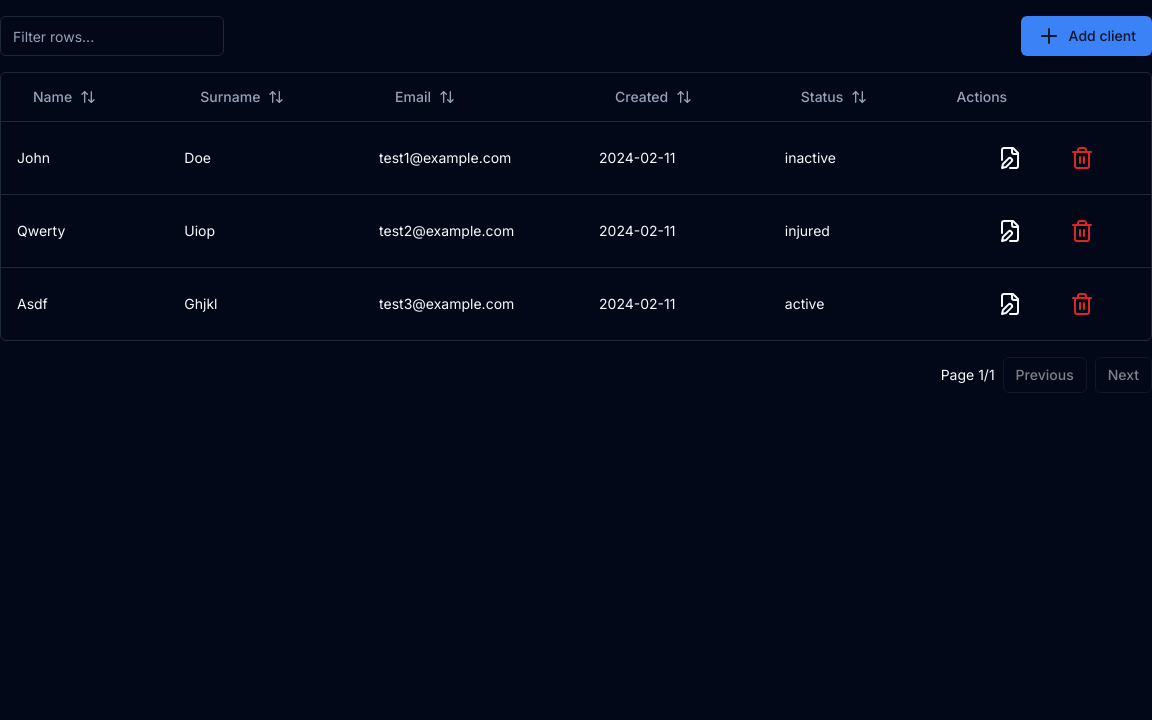
Test case: Clients Table › opens form dialog if add or edit client is clicked, can close dialog
Click the button named "edit client" in the row of "John" at (1010, 158), box [982, 138, 1038, 178]
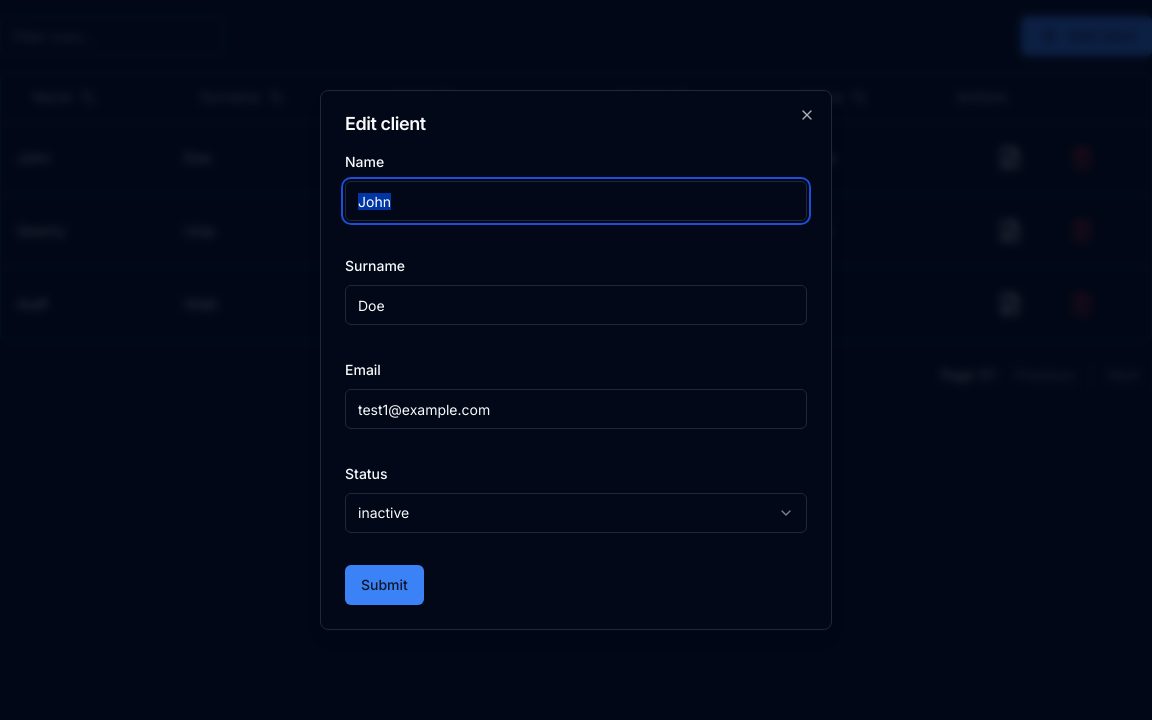
Check: the dialog is shown, box [320, 90, 832, 630]
Click the button named "Close" at (807, 115), box [799, 107, 815, 123]
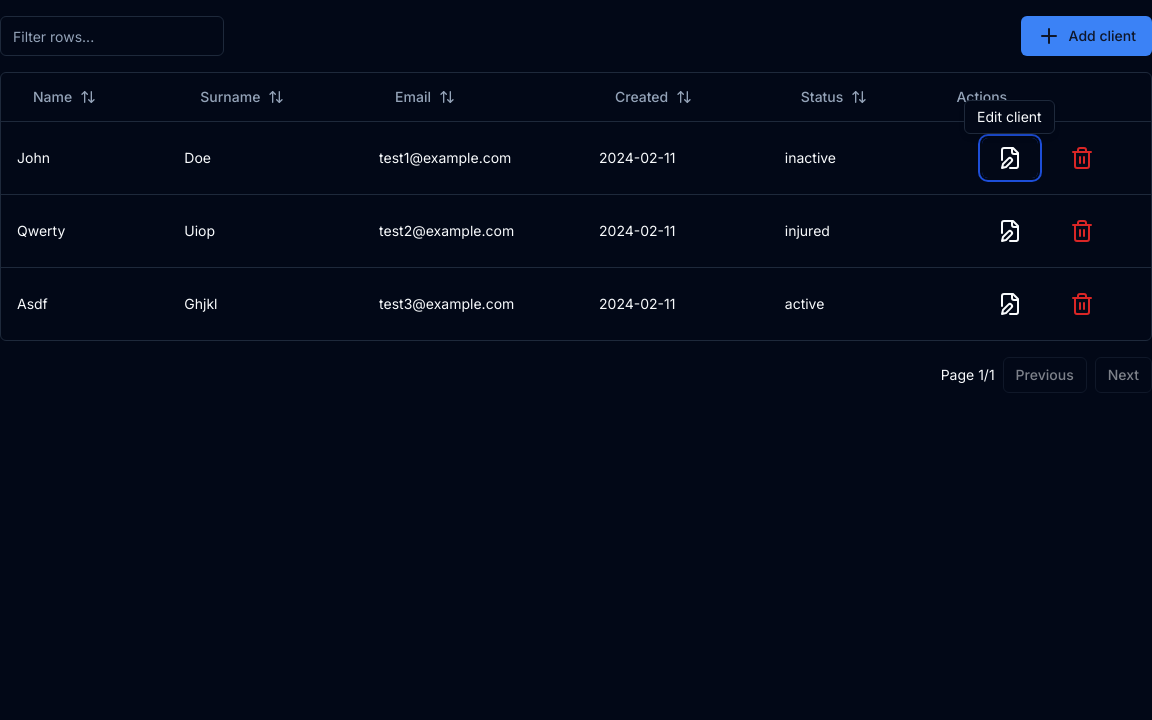
Check: the dialog is gone
Click the button "Add client" at (1086, 36), box [1021, 16, 1151, 56]
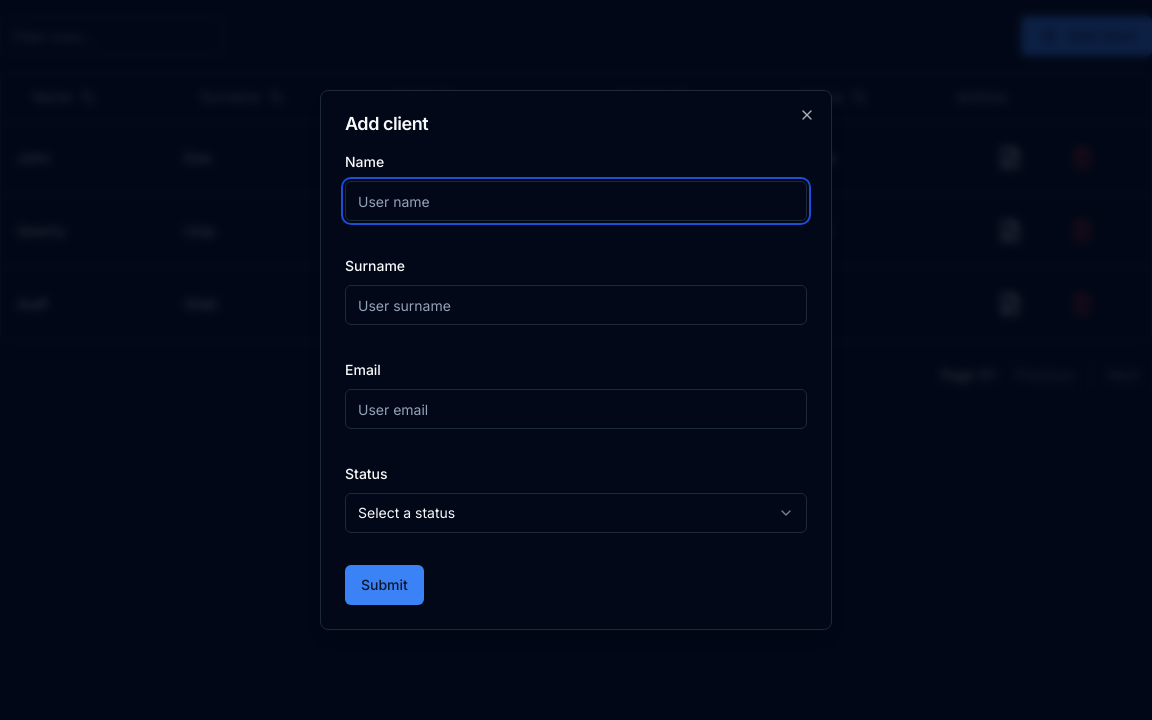
Check: the dialog is shown, box [320, 90, 832, 630]
Click the button named "Close" at (807, 115), box [799, 107, 815, 123]
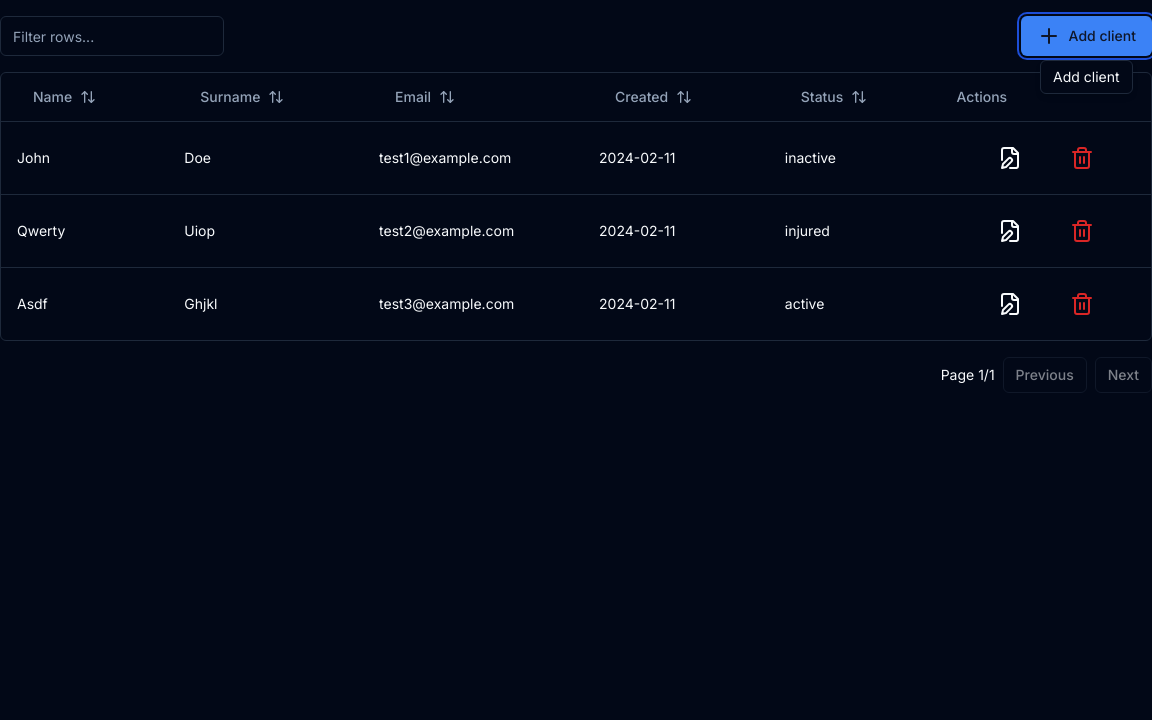
Check: the dialog is gone
